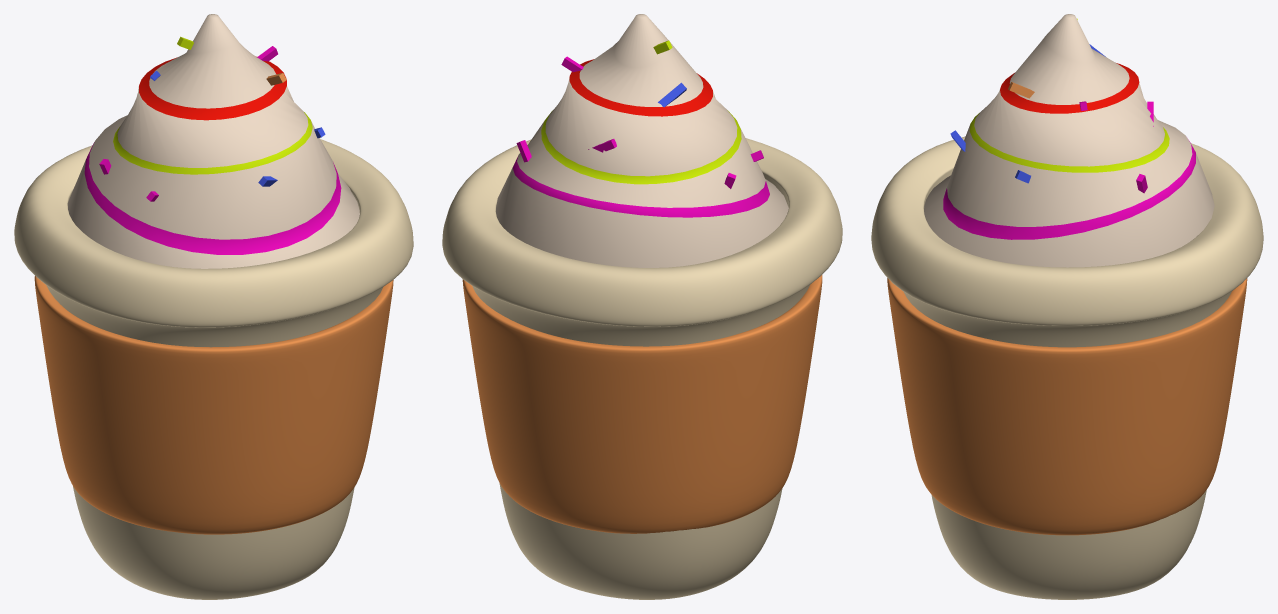
File: kahve_sevval.fbx
3 views of the same model, side by side, from view 1: azimuth 30°, elevation 25°; view 2: azimuth 150°, elevation 25°; view 3: azimuth 270°, elevation 25° (orthographic).
Visible parts, largest first — view 1: Cylinder, Cube.001, Sphere; view 2: Cylinder, Cube.001, Sphere; view 3: Cylinder, Cube.001, Sphere.
Boxes of the visible parts, x1=… form: Cylinder: x1=34, y1=276, x2=393, y2=534; Cube.001: x1=14, y1=139, x2=413, y2=599; Sphere: x1=67, y1=14, x2=359, y2=268; Cylinder: x1=462, y1=275, x2=822, y2=533; Cube.001: x1=442, y1=138, x2=842, y2=599; Sphere: x1=496, y1=14, x2=788, y2=267; Cylinder: x1=887, y1=278, x2=1247, y2=535; Cube.001: x1=871, y1=136, x2=1263, y2=599; Sphere: x1=924, y1=14, x2=1214, y2=267.
Bounding box in the file's own units: 127 × 194 × 127.
